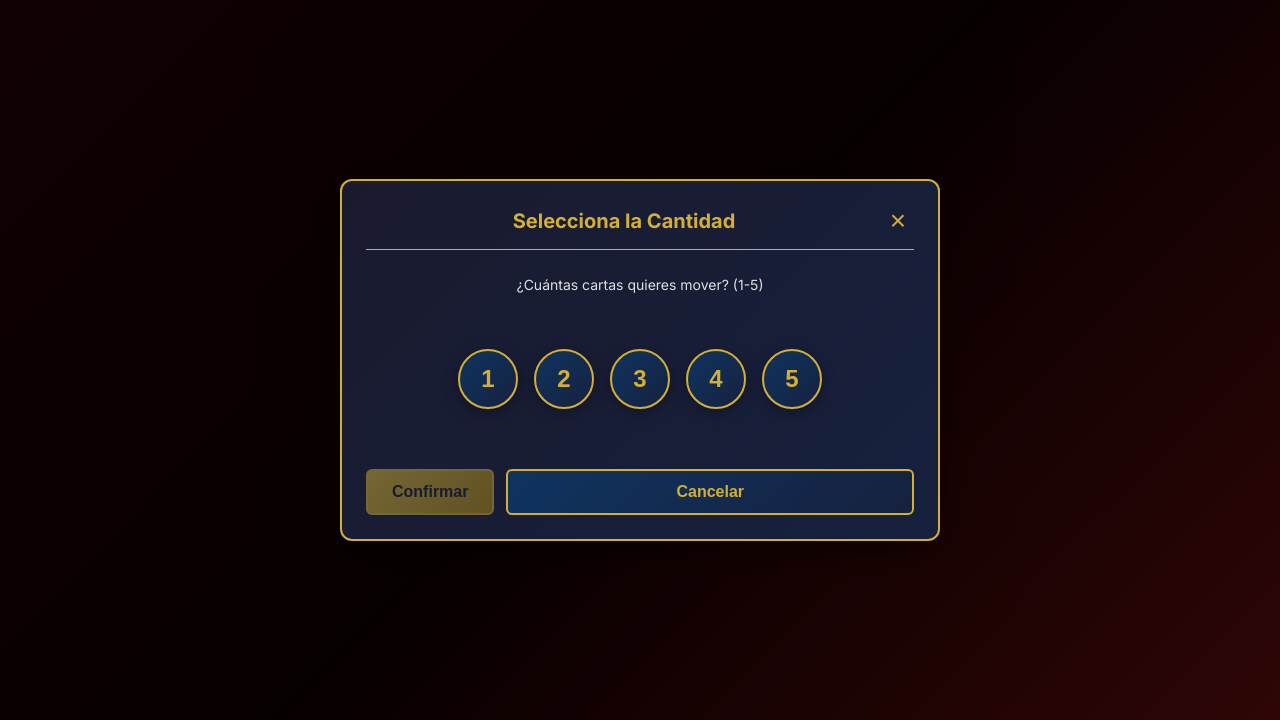
Test case: ModalDescarteConCantidad › Selección de cantidad › habilita el botón Confirmar después de seleccionar
Click the button "3": (640,379) [610,349,670,409]
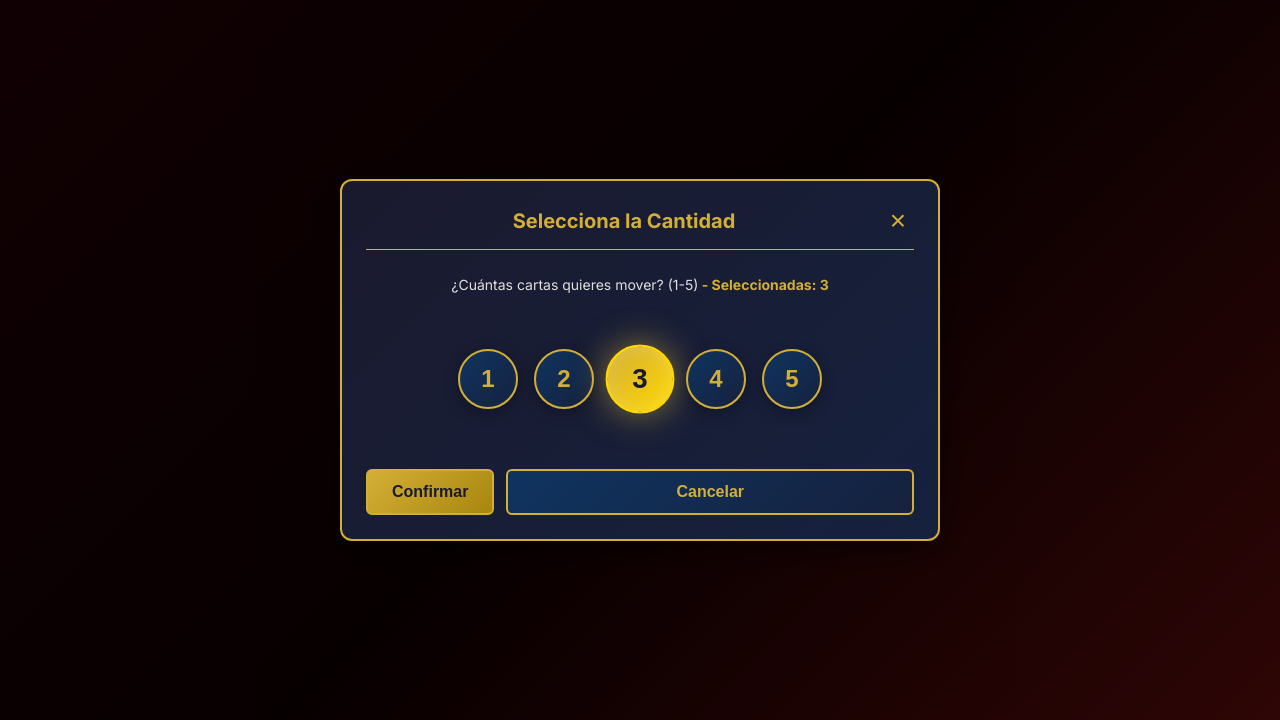
Expected: the button "Confirmar" is enabled, [366,469,494,515]
